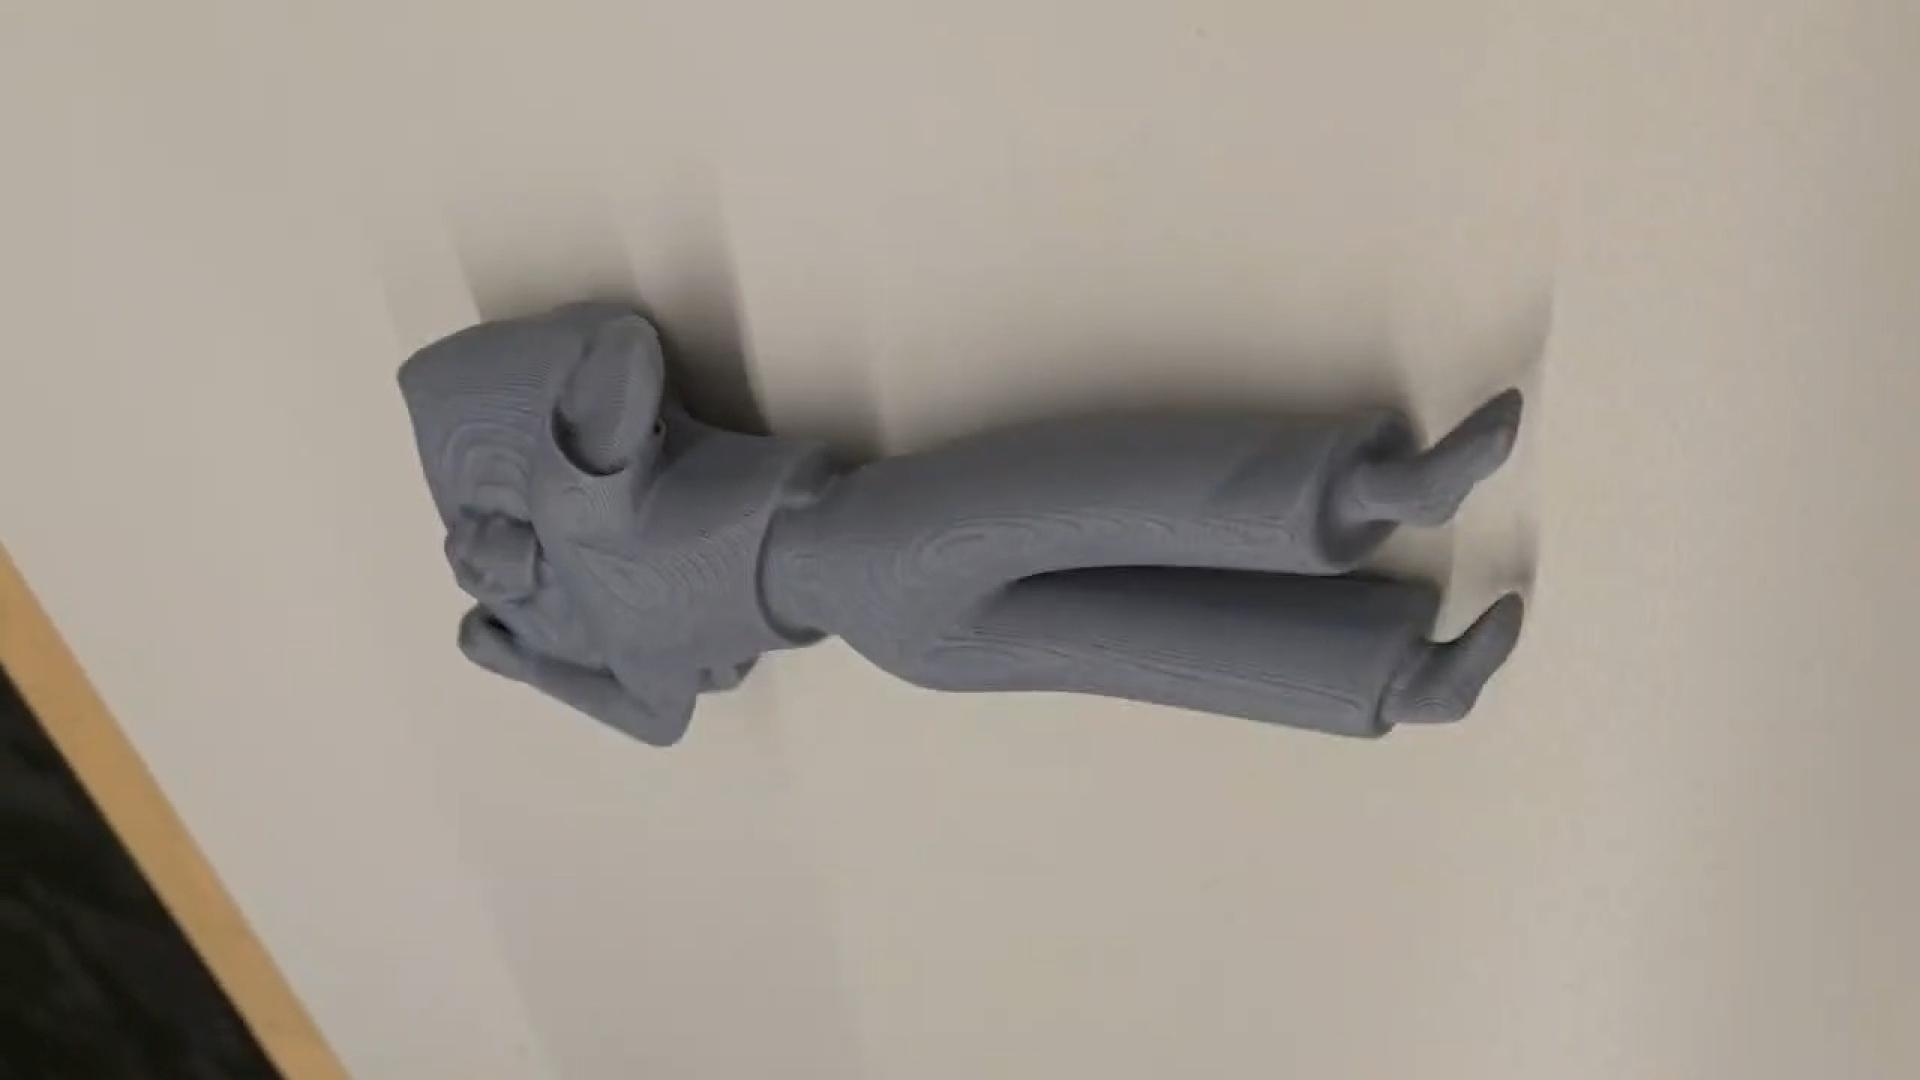Bad-style: (401, 299, 1535, 756)
